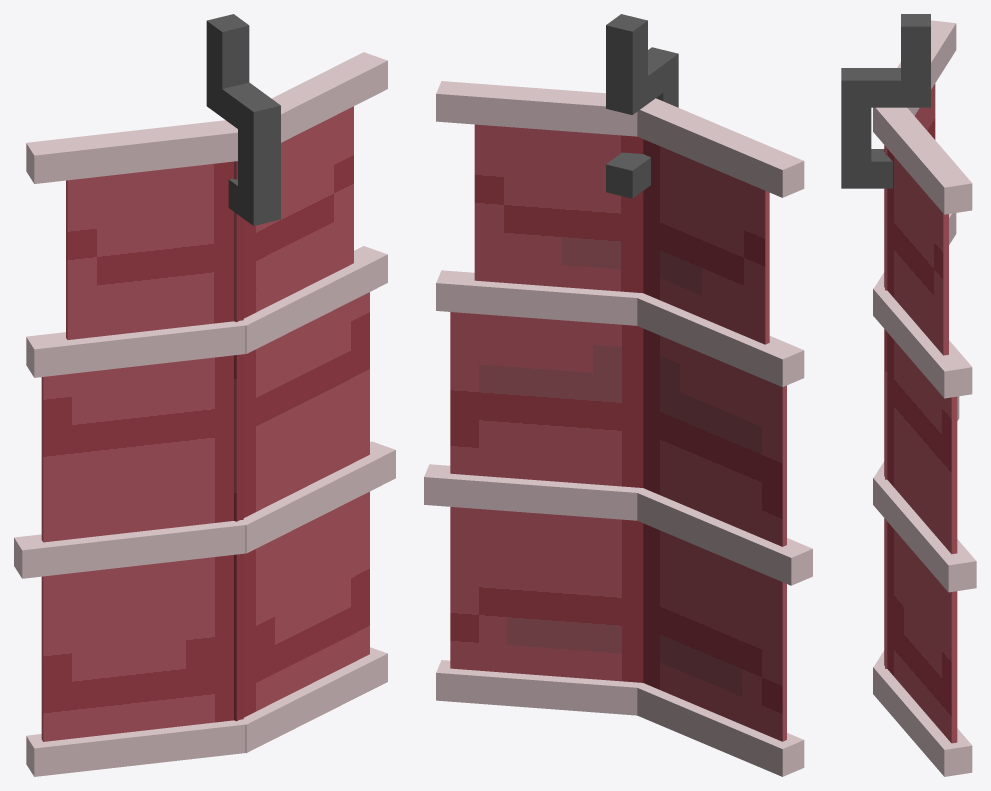
File: meat.gltf
3 renders of one model, left to right at view 1: azimuth 30°, elevation 25°; view 2: azimuth 150°, elevation 25°; view 3: azimuth 270°, elevation 25°, orthographic. The views are drawn at different scales.
Visible parts, largest first — view 1: cube (×18); view 2: cube (×17); view 3: cube (×16).
Part boxes in pixels (x1,y1,x2,y2): cube (×18): [14, 14, 395, 776]; cube (×17): [424, 14, 812, 776]; cube (×16): [841, 14, 976, 776].
Bounding box in the file's own units: 0.8794 × 1.56 × 0.2832.
2 materials, 2 textured.
